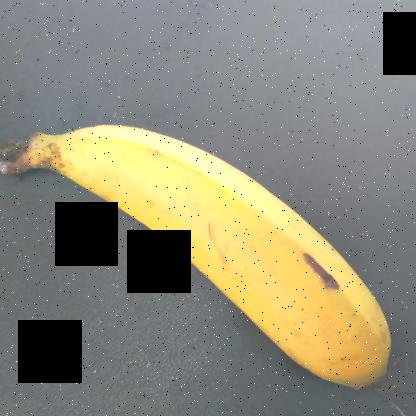freshripe: (47, 111, 415, 415)
